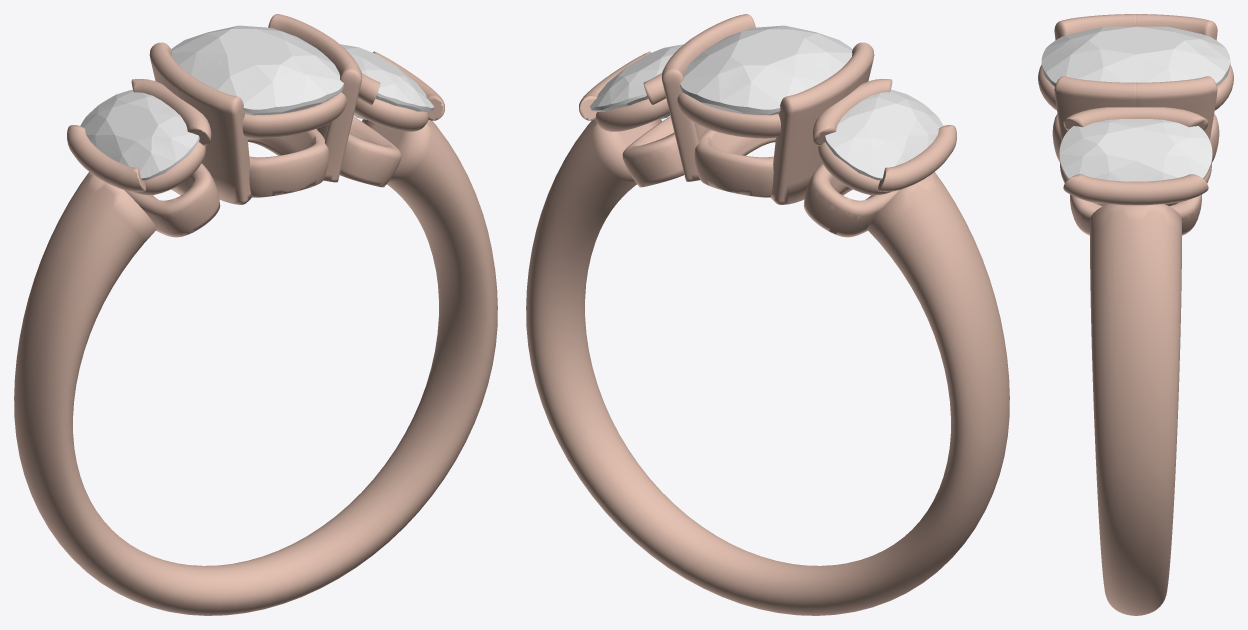
File: diamond-cushion-rosegold-halfmoonbezel-taperedband-3stone.glb
3 renders of one model, left to right at view 1: azimuth 30°, elevation 25°; view 2: azimuth 150°, elevation 25°; view 3: azimuth 270°, elevation 25°, orthographic.
Parts seen in each view (by area): view 1: metal.003, stone, side.001, side; view 2: metal.003, stone, side.001, side; view 3: metal.003, stone, side.
Boxes of the visible parts, x1=… form: metal.003: x1=14, y1=14, x2=497, y2=615; stone: x1=171, y1=25, x2=343, y2=115; side.001: x1=80, y1=89, x2=199, y2=180; side: x1=340, y1=44, x2=433, y2=119; metal.003: x1=526, y1=14, x2=1009, y2=615; stone: x1=680, y1=25, x2=852, y2=115; side.001: x1=824, y1=89, x2=943, y2=180; side: x1=590, y1=44, x2=683, y2=119; metal.003: x1=1038, y1=14, x2=1233, y2=615; stone: x1=1041, y1=26, x2=1230, y2=86; side: x1=1059, y1=119, x2=1212, y2=181.
Bounding box in the file's own units: 20.09 × 23.03 × 7.42.
